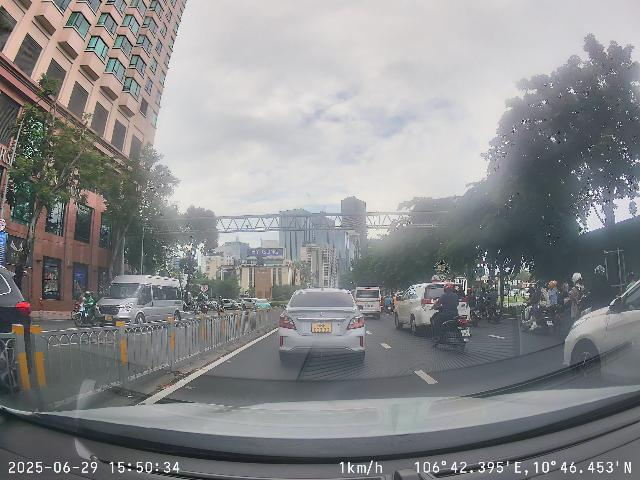303-noi-giao-nhau-chay-theo-vong-xuyen: (476, 266, 486, 277)
